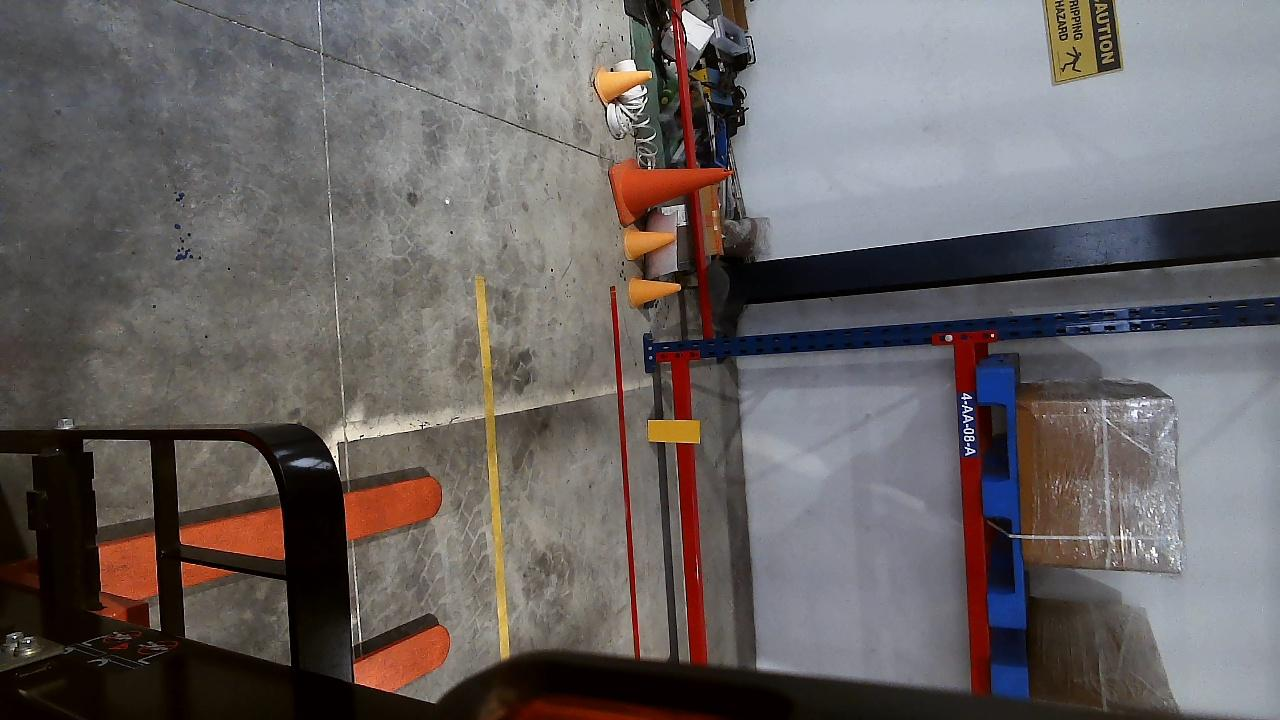h_rack: (953, 340, 992, 694), (668, 359, 708, 664)
orange_strip: (646, 419, 700, 444)
red_line: (607, 285, 642, 662)
small_pallet: (974, 368, 1026, 623)
yellow_line: (473, 276, 507, 686)
